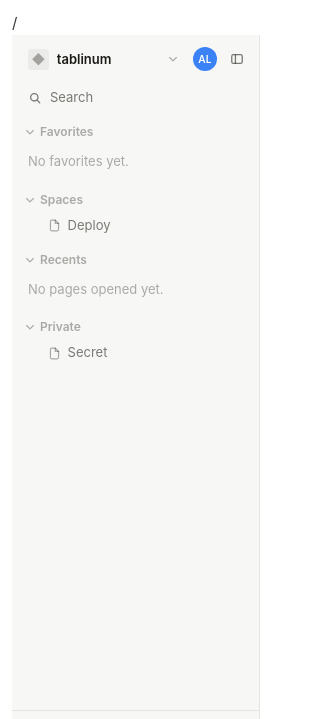
Test: the private bucket › folds the bucket away and back
Expected: the text "Deploy" is shown, [68,217,110,233]
Click the button "Private": click(124, 327) [20,315,229,339]
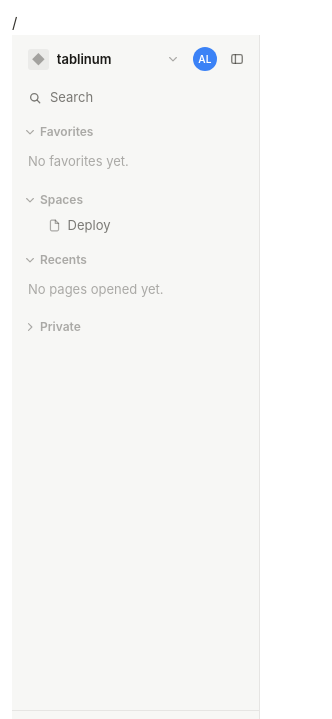
Expected: the text "Secret" is gone
Click the button "Private": click(124, 327) [20,315,229,339]
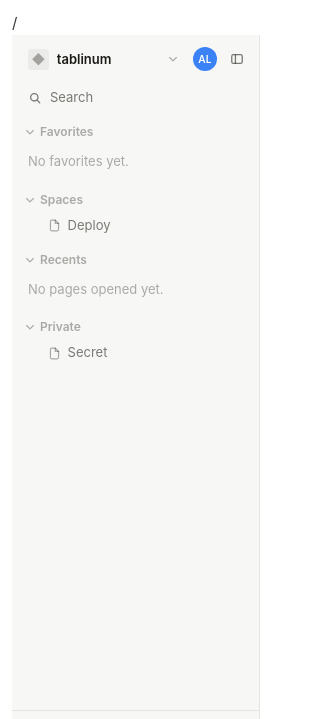
Expected: the text "Secret" is shown, [68,344,108,360]
